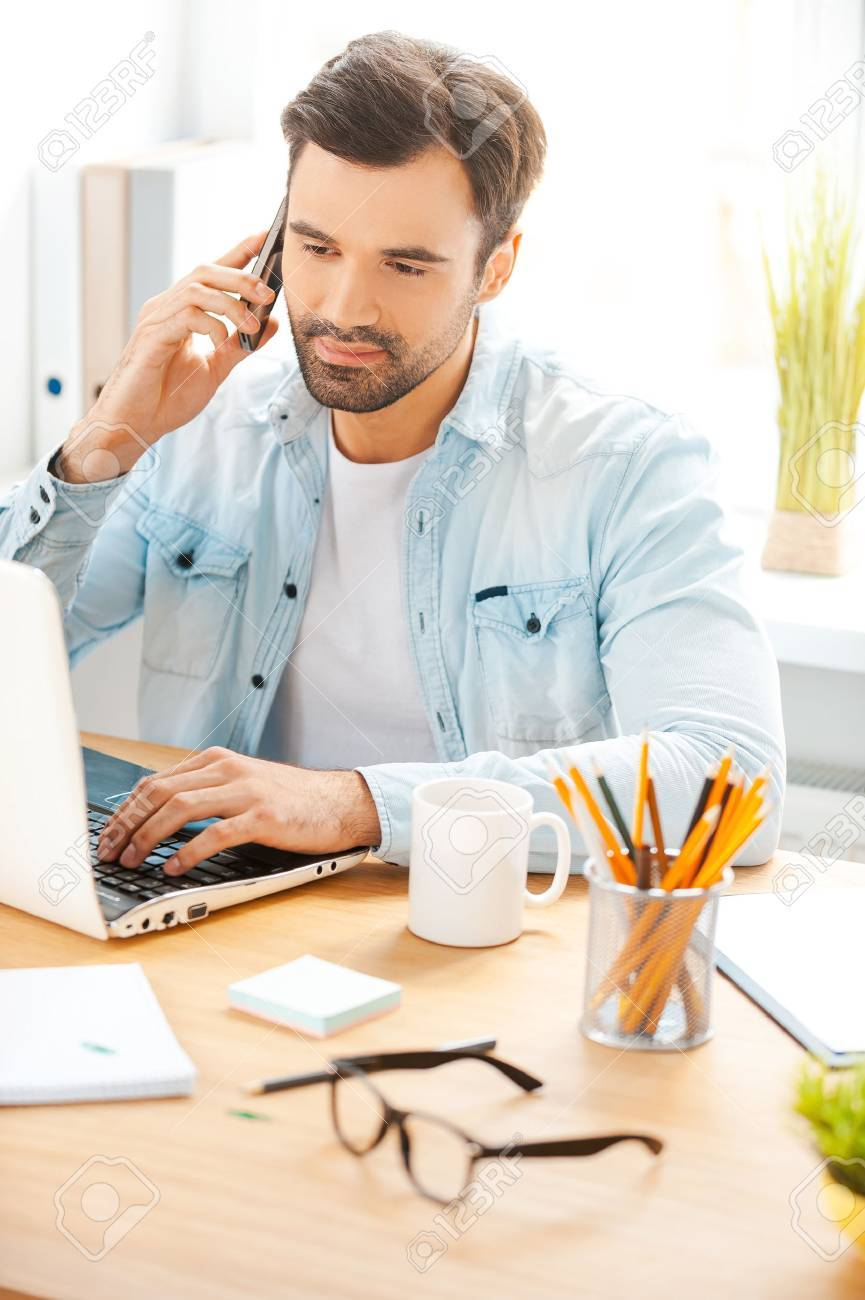phone: (137, 175, 297, 393)
talk: (80, 155, 467, 473)
